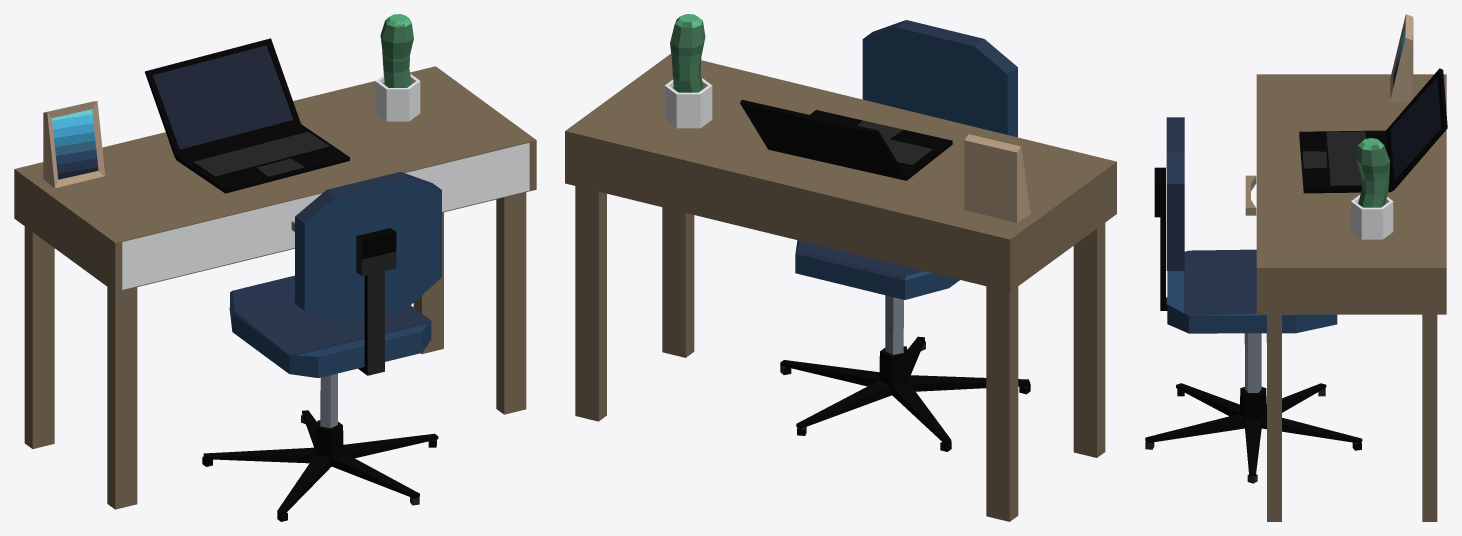
File: Accesories_Office.glb
The picture shows the model from 3 angles, left to right: view 1: azimuth 30°, elevation 25°; view 2: azimuth 150°, elevation 25°; view 3: azimuth 270°, elevation 25°; orthographic projection. The views are drawn at different scales.
Visible parts, largest first — view 1: Accesories_Office; view 2: Accesories_Office; view 3: Accesories_Office.
Part boxes in pixels (x1,y1,x2,y2): Accesories_Office: (14, 14, 536, 521); Accesories_Office: (565, 14, 1116, 521); Accesories_Office: (1145, 14, 1447, 521).
Size of the model in its own units: 1.2 by 1.02 by 0.792.
Materials: 1 (1 with a texture image).
